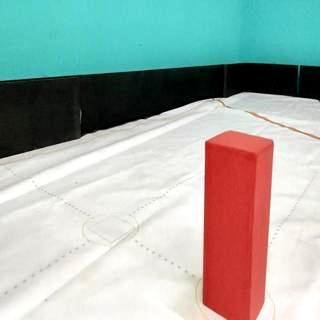redbox: (204, 130, 274, 320)
